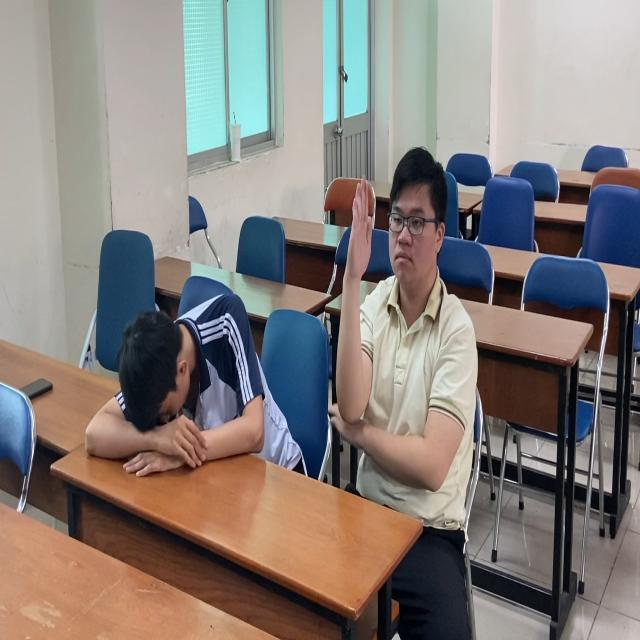raise_hand: (333, 144, 481, 528)
sleep: (83, 278, 283, 491)
